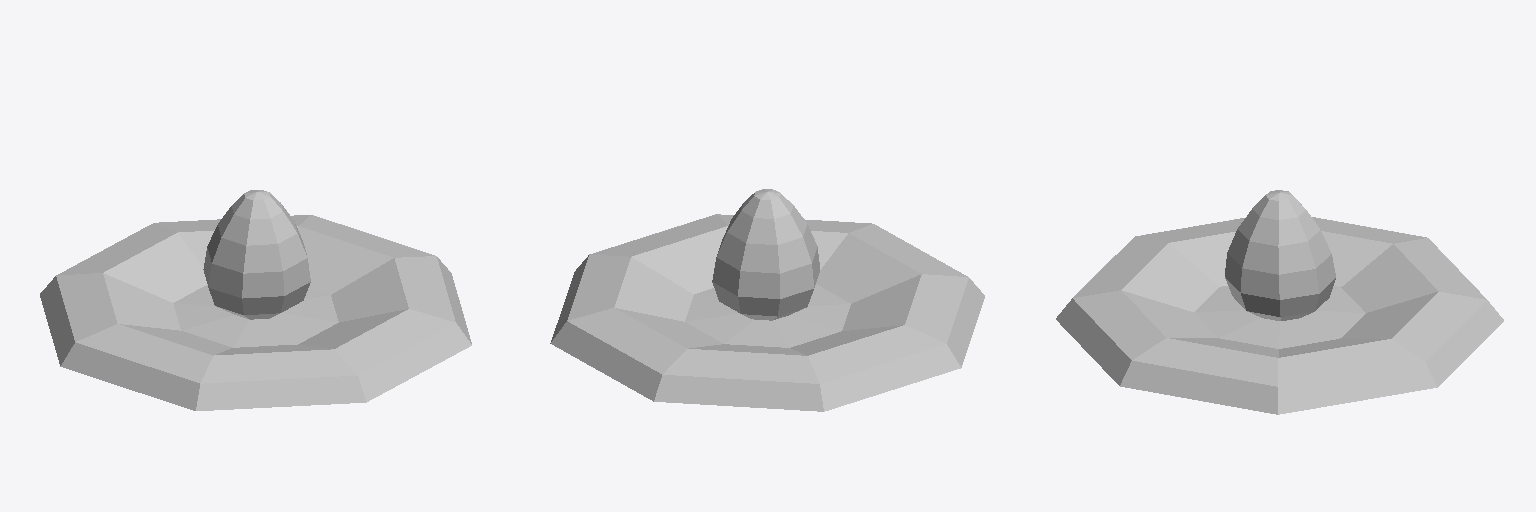
The model's file is eggnest.obj.
The picture shows the model from 3 angles: view 1: azimuth 30°, elevation 25°; view 2: azimuth 150°, elevation 25°; view 3: azimuth 270°, elevation 25°; orthographic projection.
Parts seen in each view (by area): view 1: Plane.004_Plane.005, Plane.003_Plane.004; view 2: Plane.004_Plane.005, Plane.003_Plane.004; view 3: Plane.004_Plane.005, Plane.003_Plane.004.
Boxes of the visible parts, x1,y1,x2,y2 form: Plane.004_Plane.005: [40, 215, 471, 410]; Plane.003_Plane.004: [203, 190, 310, 319]; Plane.004_Plane.005: [550, 214, 984, 411]; Plane.003_Plane.004: [712, 189, 819, 320]; Plane.004_Plane.005: [1056, 217, 1503, 414]; Plane.003_Plane.004: [1225, 190, 1335, 320].
Size of the model in its own units: 3.98 by 1.25 by 3.98.